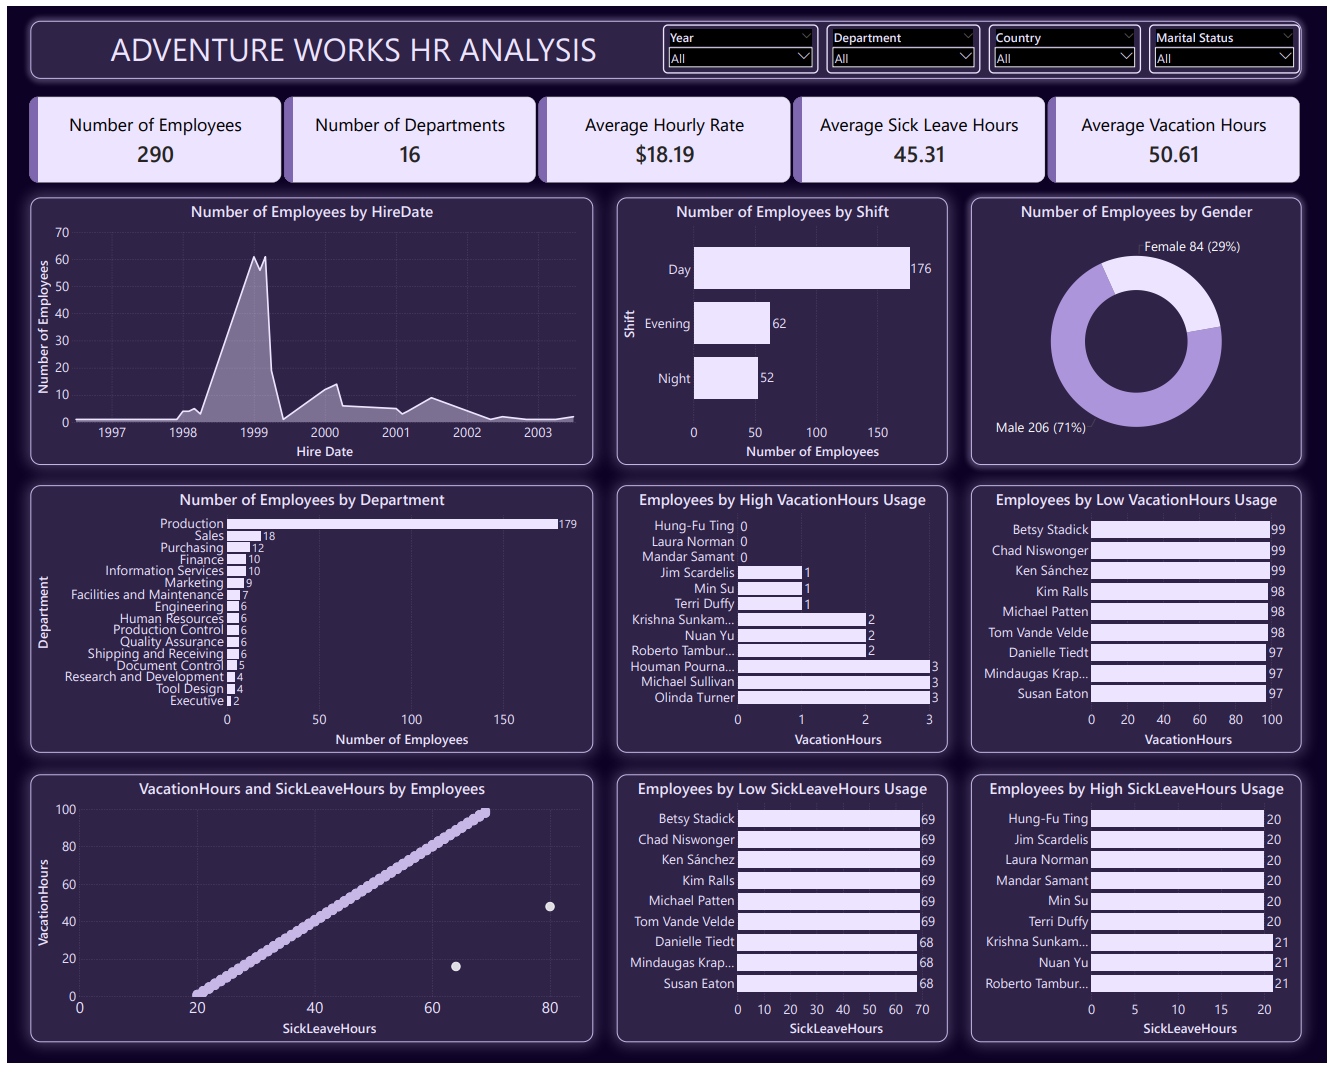

This screenshot's page, from the dashboard's own definition file:
{"tool":"powerbi","page":{"name":"HR Analysis.","canvas":[4000,3200],"ordinal":0},"visuals":[{"type":"shape","box":[72.2,43.3,3853.2,173.4],"z":0},{"type":"cardVisual","fields":{"Data":["_Measures.Number of Employees_","_Measures.Number of Departments","_Measures.Average Employee Pay Rate","_Measures.Average Sick Leave Hours","_Measures.Average Vacation Hours"]},"box":[63.5,266.6,3863.7,270.8],"z":1000},{"type":"lineChart","title":"Number of Employees by HireDate","fields":{"Category":["FactEmployee.HireDate.Variation.Date Hierarchy.Year1","FactEmployee.HireDate.Variation.Date Hierarchy.Month"],"Y":["_Measures.Number of Employees_"]},"box":[72.2,578,1705,809.2],"z":2000},{"type":"donutChart","title":"Number of Employees by Gender","fields":{"Category":["FactEmployee.Gender_New1"],"Y":["_Measures.Number of Employees_"]},"box":[2923.6,578,1001.8,809.2],"z":3000},{"type":"slicer","fields":{"Values":["FactEmployee.Marital_Status1"]},"box":[3463,53,457.6,149.3],"z":4000},{"type":"slicer","fields":{"Values":["DimEmployeeAddress.Country"]},"box":[2976.6,53,462.4,149.3],"z":5000},{"type":"clusteredBarChart","title":"Number of Employees by Shift","fields":{"Category":["DimShiftInfo.Name"],"Y":["_Measures.Number of Employees_"]},"box":[1850.1,578,1001.8,809.2],"z":6000},{"type":"clusteredBarChart","title":"Number of Employees by Department","fields":{"Y":["_Measures.Number of Employees_"],"Category":["FactEmployee.Department"]},"box":[72.2,1449.7,1705,809.2],"z":7000},{"type":"textbox","box":[72.2,38.5,1926.6,158.9],"z":8000},{"type":"slicer","fields":{"Values":["FactEmployee.Department"]},"box":[2485.3,53,467.2,149.3],"z":9000},{"type":"clusteredBarChart","title":"Employees by Low  VacationHours Usage","fields":{"Category":["FactEmployee.EmployeeName"],"Y":["Sum(FactEmployee.VacationHours)"]},"box":[2923.6,1449.7,1001.8,809.2],"z":10000},{"type":"clusteredBarChart","title":"Employees by High  SickLeaveHours Usage","fields":{"Category":["FactEmployee.EmployeeName"],"Y":["Sum(FactEmployee.SickLeaveHours)"]},"box":[2923.6,2326.3,1001.8,809.2],"z":11000},{"type":"clusteredBarChart","title":"Employees by High VacationHours Usage","fields":{"Category":["FactEmployee.EmployeeName"],"Y":["Sum(FactEmployee.VacationHours)"]},"box":[1850.1,1449.7,1001.8,809.2],"z":12000},{"type":"clusteredBarChart","title":"Employees by Low  SickLeaveHours Usage","fields":{"Category":["FactEmployee.EmployeeName"],"Y":["Sum(FactEmployee.SickLeaveHours)"]},"box":[1850.1,2326.3,1001.8,809.2],"z":13000},{"type":"slicer","fields":{"Values":["FactEmployee.HireDate.Variation.Date Hierarchy.Year"]},"box":[1989.2,53,472,149.3],"z":14000},{"type":"scatterChart","title":"VacationHours and SickLeaveHours by Employees","fields":{"X":["Sum(FactEmployee.SickLeaveHours)"],"Category":["FactEmployee.EmployeeName"],"Y":["FactEmployee.VacationHours"]},"box":[72.2,2326.3,1705,809.2],"z":15000}]}

Visuals, with their boxes in screenshot pixels (x1, y1, x2, y2), scaled from the page's 4000x3200 canvas onto the 1333x1068 screenshot:
shape: {"left": 24, "top": 14, "right": 1308, "bottom": 72}
cardVisual - _Measures.Number of Employees_ x _Measures.Number of Departments: {"left": 21, "top": 89, "right": 1309, "bottom": 179}
"Number of Employees by HireDate" lineChart: {"left": 24, "top": 193, "right": 592, "bottom": 463}
"Number of Employees by Gender" donutChart: {"left": 974, "top": 193, "right": 1308, "bottom": 463}
slicer - FactEmployee.Marital_Status1: {"left": 1154, "top": 18, "right": 1307, "bottom": 68}
slicer - DimEmployeeAddress.Country: {"left": 992, "top": 18, "right": 1146, "bottom": 68}
"Number of Employees by Shift" clusteredBarChart: {"left": 617, "top": 193, "right": 950, "bottom": 463}
"Number of Employees by Department" clusteredBarChart: {"left": 24, "top": 484, "right": 592, "bottom": 754}
textbox: {"left": 24, "top": 13, "right": 666, "bottom": 66}
slicer - FactEmployee.Department: {"left": 828, "top": 18, "right": 984, "bottom": 68}
"Employees by Low  VacationHours Usage" clusteredBarChart: {"left": 974, "top": 484, "right": 1308, "bottom": 754}
"Employees by High  SickLeaveHours Usage" clusteredBarChart: {"left": 974, "top": 776, "right": 1308, "bottom": 1046}
"Employees by High VacationHours Usage" clusteredBarChart: {"left": 617, "top": 484, "right": 950, "bottom": 754}
"Employees by Low  SickLeaveHours Usage" clusteredBarChart: {"left": 617, "top": 776, "right": 950, "bottom": 1046}
slicer - FactEmployee.HireDate.Variation.Date Hierarchy.Year: {"left": 663, "top": 18, "right": 820, "bottom": 68}
"VacationHours and SickLeaveHours by Employees" scatterChart: {"left": 24, "top": 776, "right": 592, "bottom": 1046}
